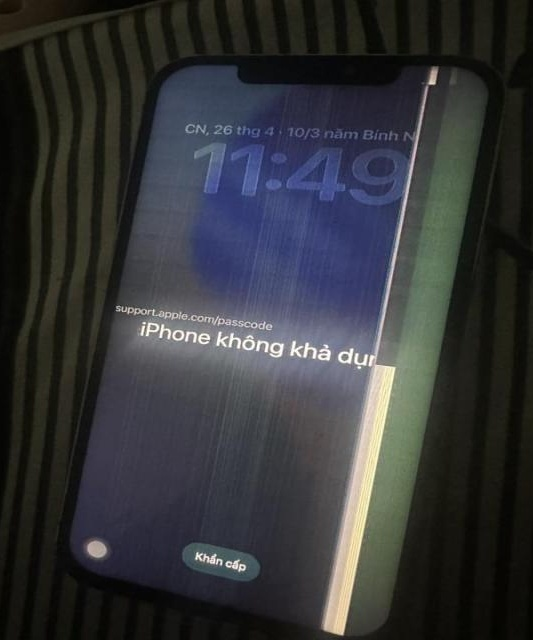screen_defect: (341, 423, 383, 475), (382, 182, 418, 238), (330, 477, 373, 522), (371, 240, 404, 296), (362, 365, 393, 423), (327, 522, 366, 567), (307, 602, 355, 633), (364, 300, 387, 364), (310, 568, 355, 598), (400, 132, 425, 177), (414, 88, 434, 130), (420, 58, 441, 89)
